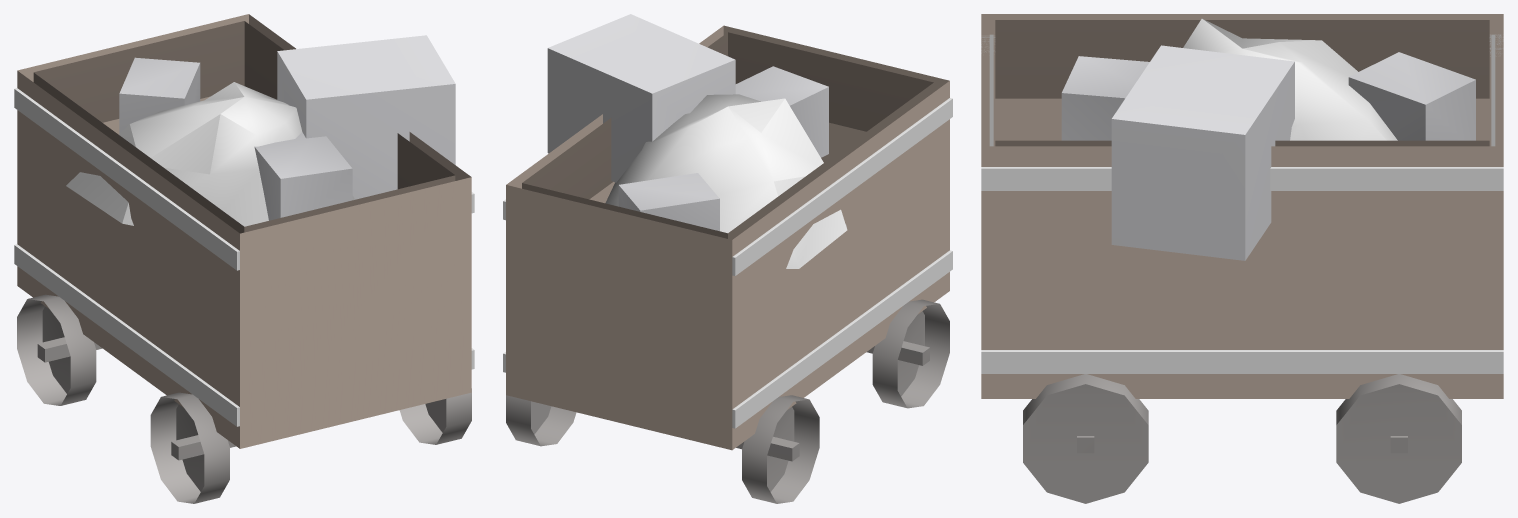
Rendered from kit_cart.glb.
3 views of the same model, side by side, from view 1: azimuth 30°, elevation 25°; view 2: azimuth 150°, elevation 25°; view 3: azimuth 270°, elevation 25° (orthographic). The views are drawn at different scales.
Parts seen in each view (by area): view 1: kit_cart; view 2: kit_cart; view 3: kit_cart.
Boxes of the visible parts, <box> form: kit_cart: <box>14,14,474,503</box>; kit_cart: <box>503,14,952,503</box>; kit_cart: <box>981,14,1503,503</box>.
Bounding box in the file's own units: 1.24 × 1.26 × 1.5.
